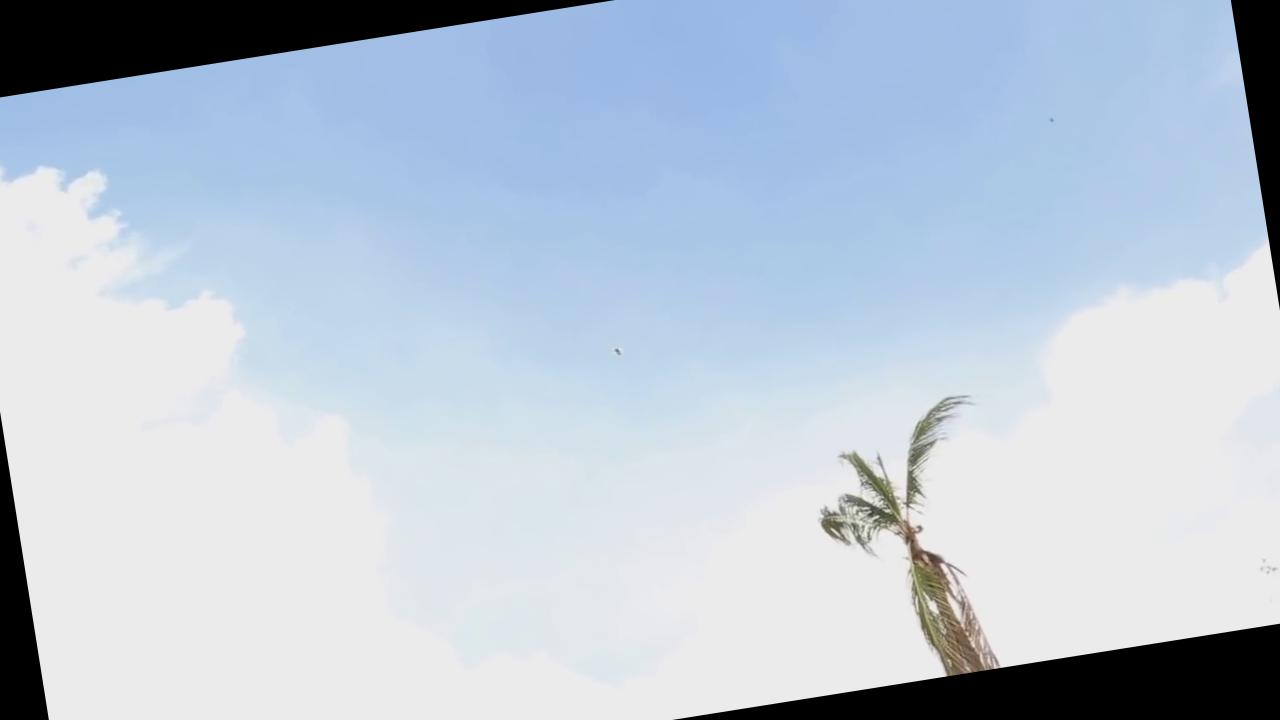drone: (610, 340, 636, 362)
